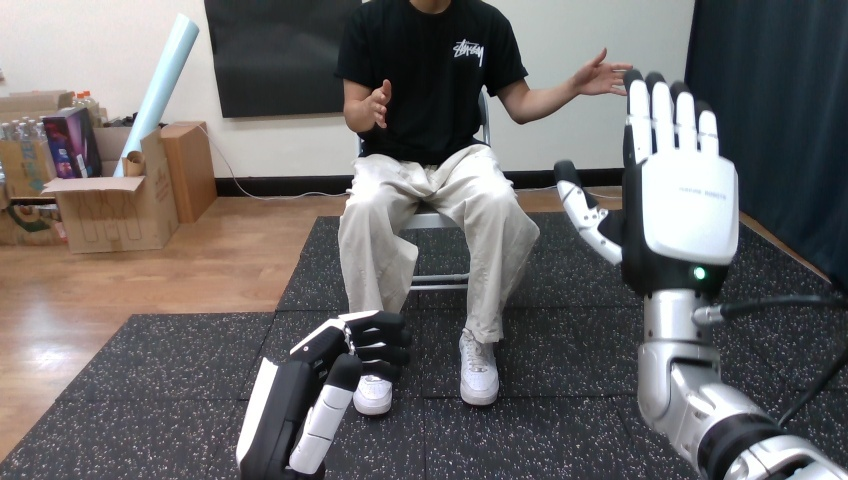left robot hand: (555, 70, 847, 479), (236, 310, 410, 479)
